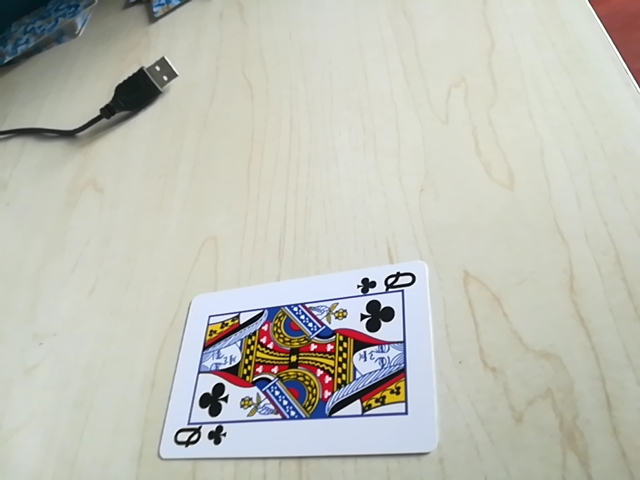mh q: (167, 421, 231, 458), (356, 268, 419, 299)
